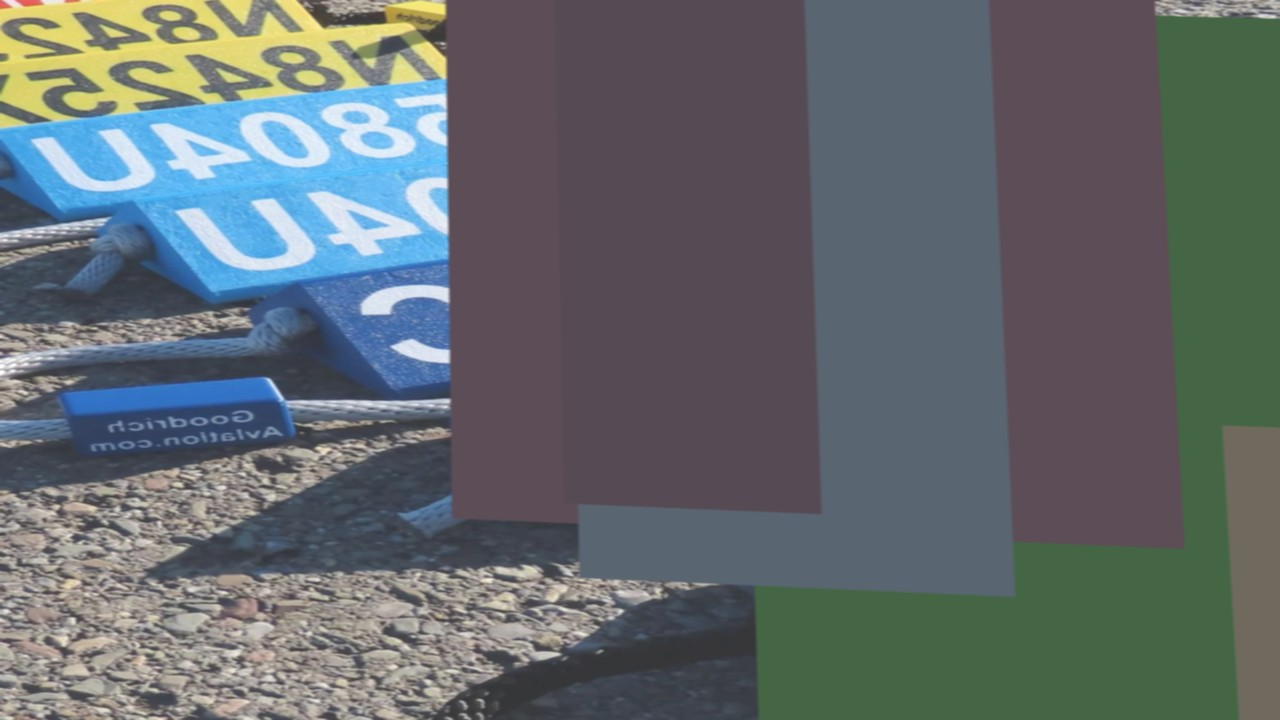chock: (441, 245, 1280, 576), (241, 169, 1095, 430), (713, 381, 1280, 720), (96, 106, 843, 330), (0, 49, 644, 239), (0, 8, 488, 163), (0, 0, 354, 76)
